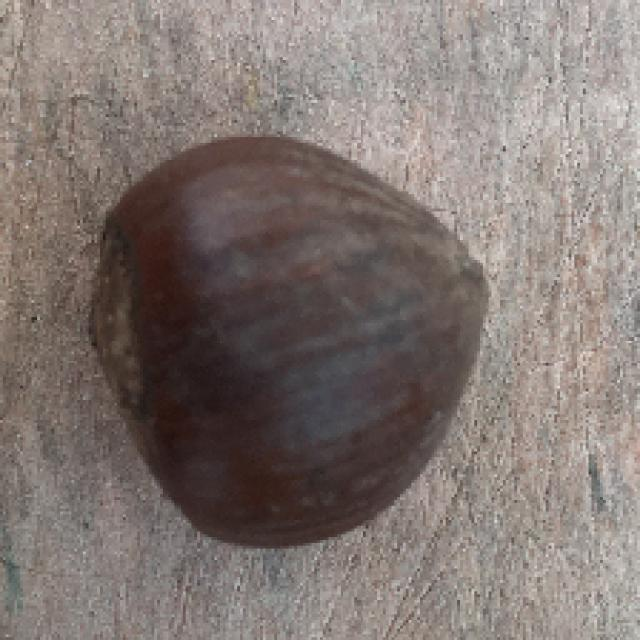damagedHazelnut: (91, 123, 494, 549)
